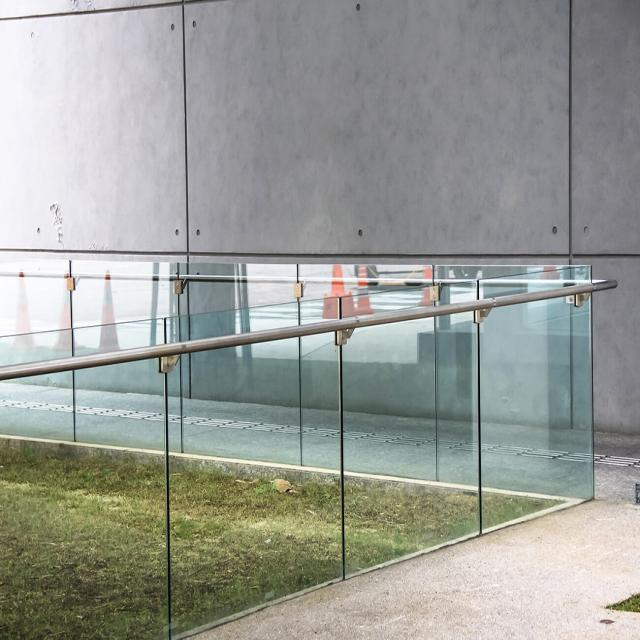glass: (0, 224, 604, 596)
